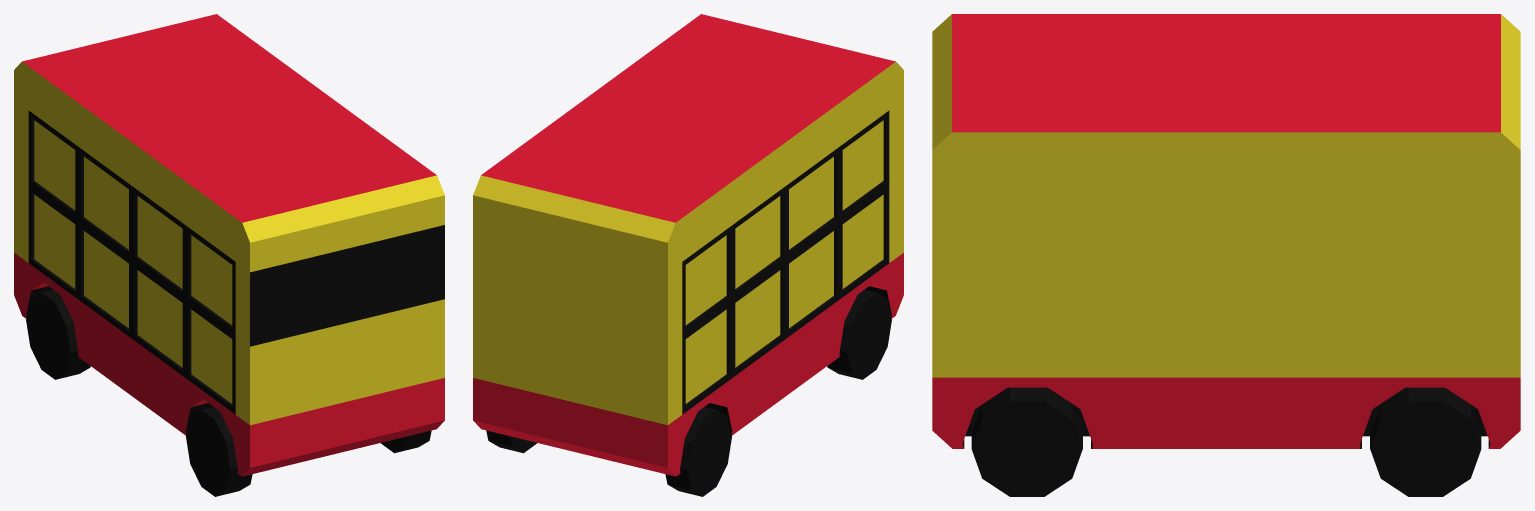
The model's file is Robot.glb.
3 renders of one model, left to right at view 1: azimuth 30°, elevation 25°; view 2: azimuth 150°, elevation 25°; view 3: azimuth 270°, elevation 25°, orthographic. The views are drawn at different scales.
Parts seen in each view (by area): view 1: Robot; view 2: Robot; view 3: Robot.
Boxes of the visible parts, left/top/right/bottom form: Robot: left=14, top=14, right=444, bottom=496; Robot: left=473, top=14, right=903, bottom=496; Robot: left=932, top=14, right=1520, bottom=496.
Size of the model in its own units: 0.3083 by 0.4208 by 0.6202.
